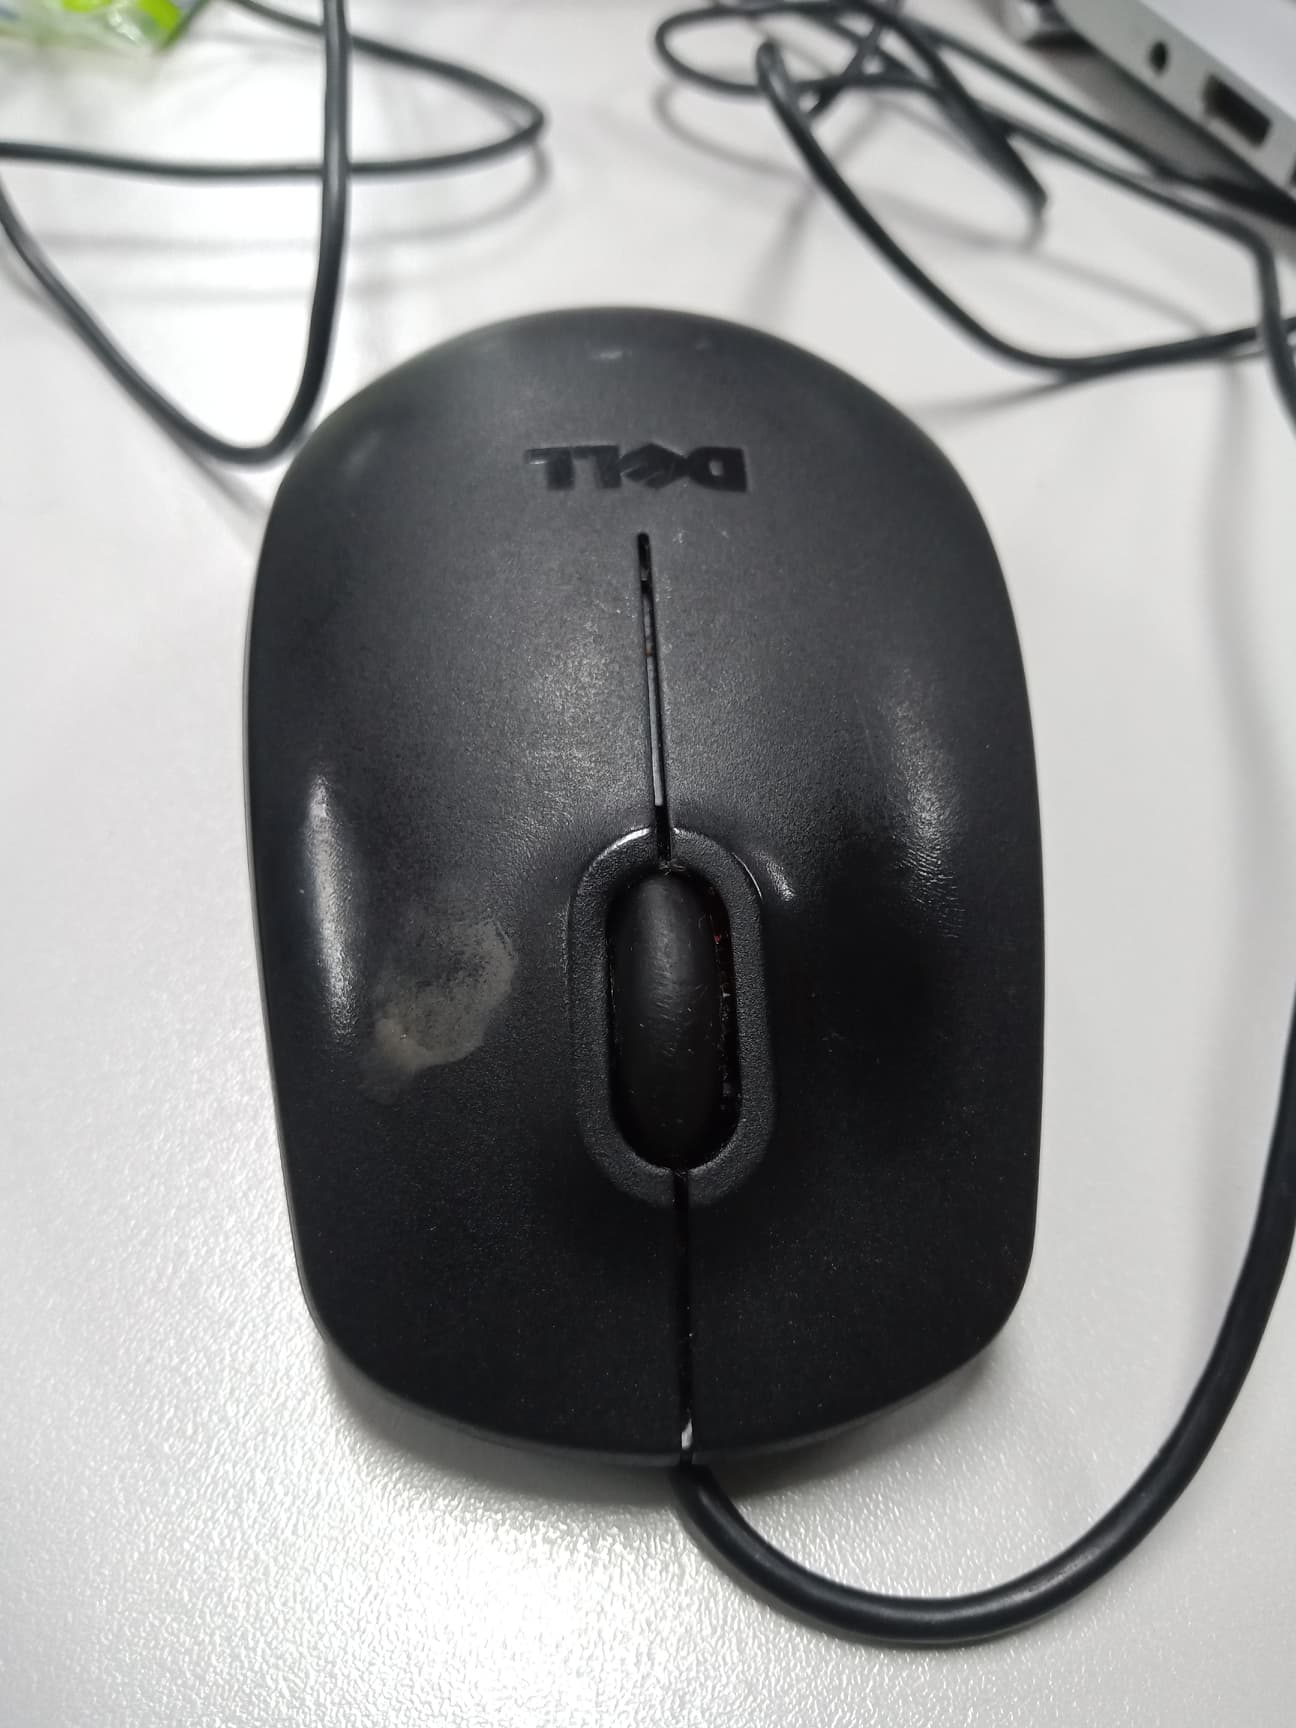mouse: (246, 308, 1051, 1463)
